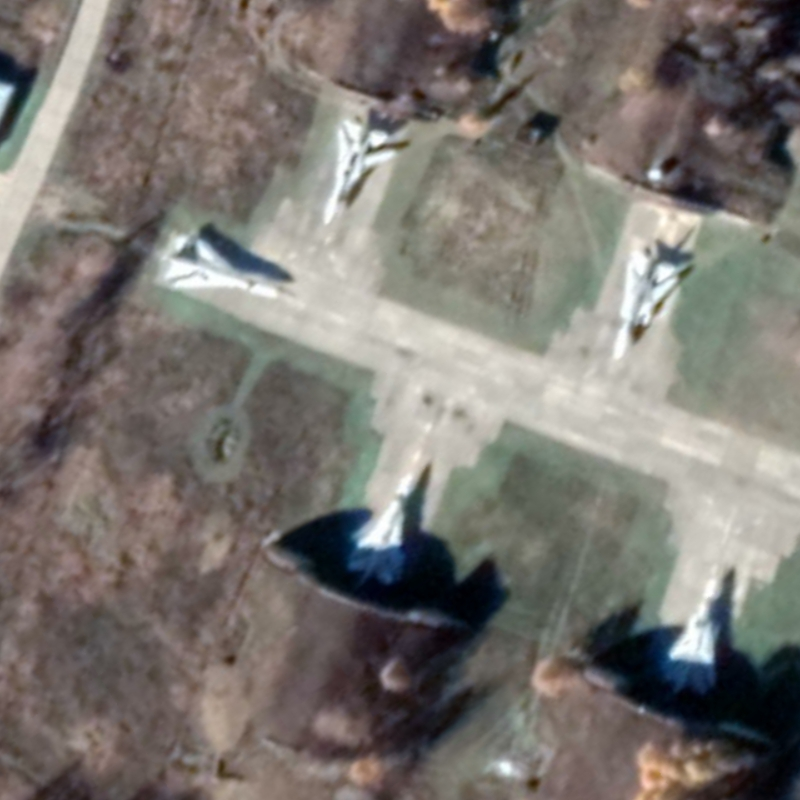A20: (321, 117, 399, 227), (160, 232, 283, 301), (343, 471, 413, 588), (611, 248, 682, 362), (658, 575, 721, 698)
